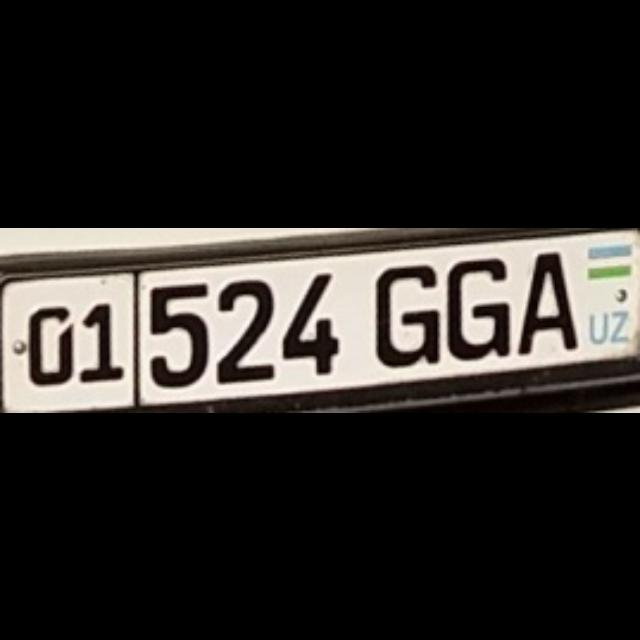0: (27, 304, 72, 384)
1: (78, 300, 122, 380)
2: (214, 276, 274, 382)
4: (278, 270, 338, 372)
5: (148, 282, 206, 384)
A: (516, 249, 576, 351)
G: (445, 256, 509, 358), (374, 263, 438, 363)
